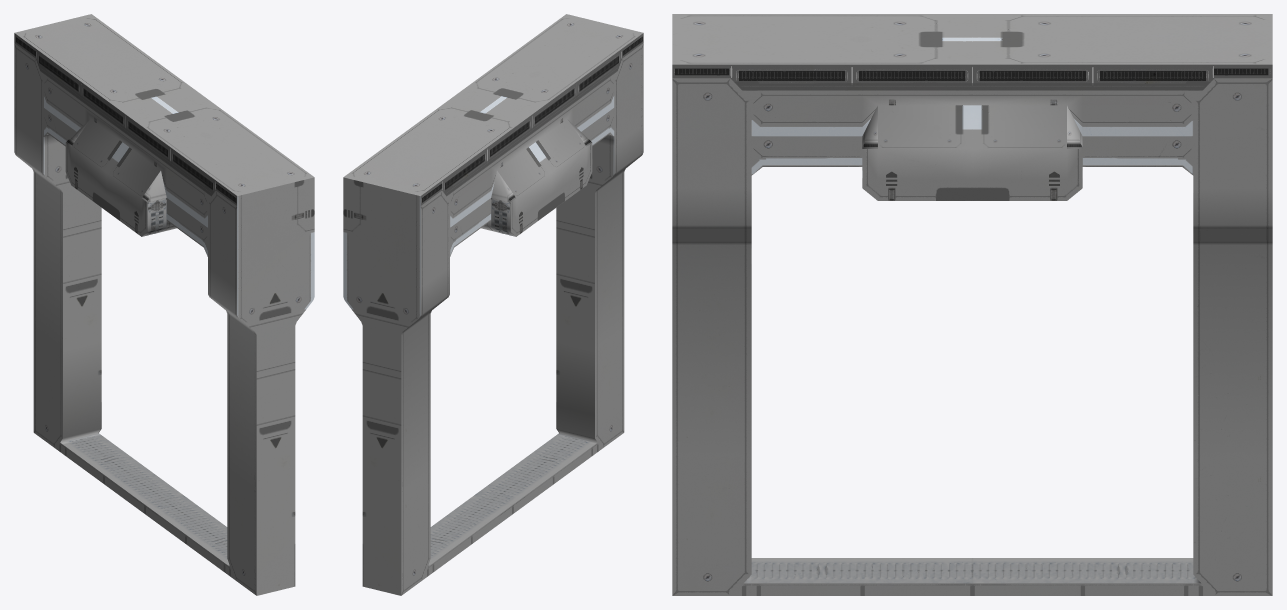
Rendered from SM_SGate1.fbx.
3 views of the same model, side by side, from view 1: azimuth 30°, elevation 25°; view 2: azimuth 150°, elevation 25°; view 3: azimuth 270°, elevation 25° (orthographic). The views are drawn at different scales.
Parts seen in each view (by area): view 1: SM_SGate1_LOD0; view 2: SM_SGate1_LOD0; view 3: SM_SGate1_LOD0.
Part boxes in pixels (bbox=[...]): SM_SGate1_LOD0: bbox=[14, 14, 314, 595]; SM_SGate1_LOD0: bbox=[343, 14, 643, 595]; SM_SGate1_LOD0: bbox=[672, 14, 1272, 595].
Bounding box in the file's own units: 120 × 400 × 400.
2 materials, 2 textured.
